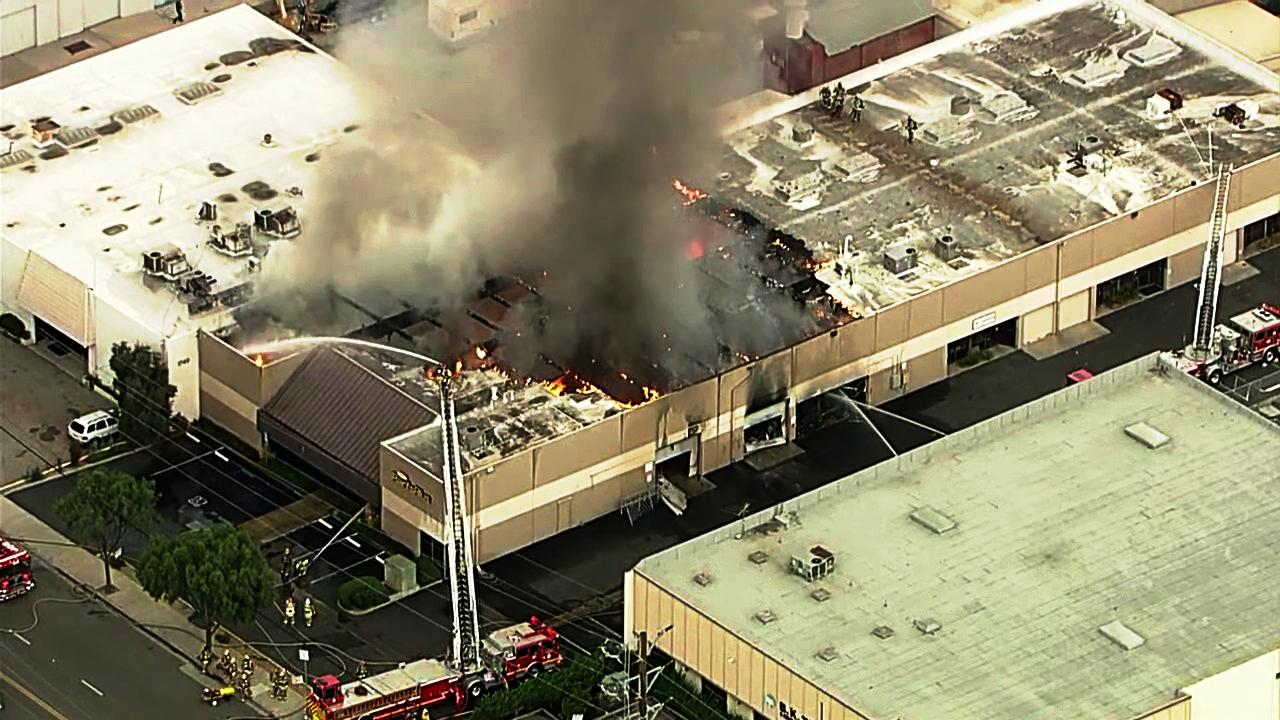smoke: (544, 0, 687, 322)
